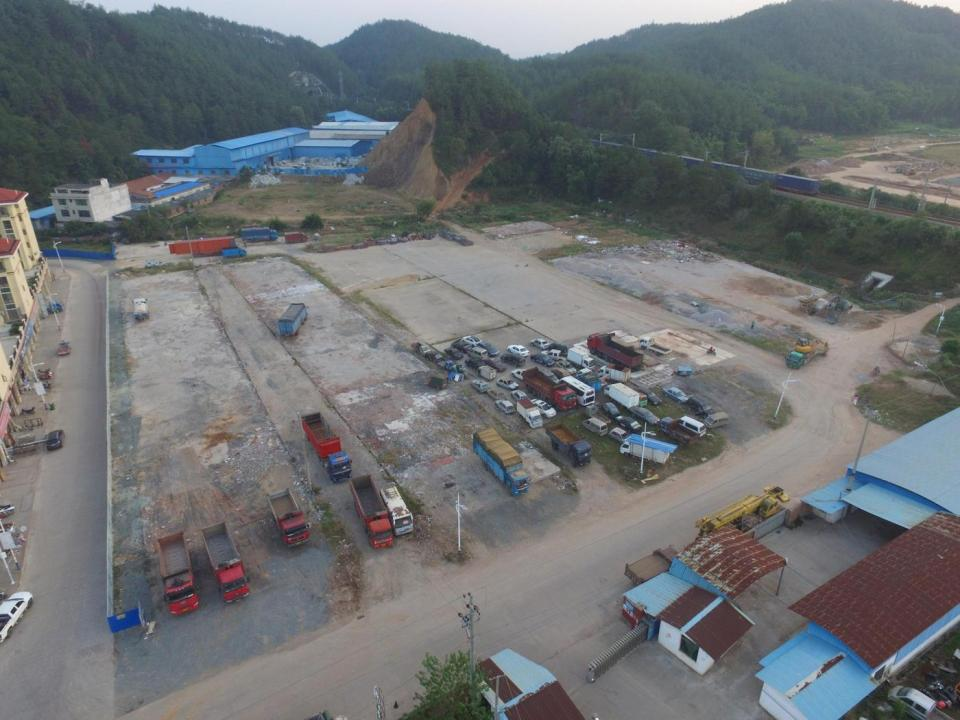bus: (379, 484, 414, 536), (557, 375, 595, 407)
car: (685, 396, 717, 419), (628, 404, 660, 426), (527, 397, 557, 418), (632, 386, 662, 406), (614, 414, 642, 433), (663, 385, 690, 404), (44, 428, 66, 450), (499, 352, 527, 368), (530, 352, 556, 368), (483, 356, 509, 372), (476, 340, 499, 357), (601, 400, 621, 419), (485, 387, 507, 404), (493, 398, 516, 414), (496, 375, 520, 390), (547, 341, 571, 356), (464, 357, 488, 372), (550, 366, 573, 381), (470, 378, 490, 394), (556, 359, 577, 374), (506, 344, 530, 357), (460, 334, 482, 348), (510, 389, 530, 404), (510, 368, 533, 381), (423, 350, 444, 364), (450, 340, 472, 353), (528, 338, 550, 350), (444, 347, 464, 359)
truck: (200, 520, 250, 604), (473, 426, 532, 496), (156, 530, 200, 617), (300, 411, 352, 483), (349, 474, 394, 549), (265, 488, 310, 549), (624, 544, 683, 588), (522, 366, 577, 412), (545, 422, 593, 468), (587, 333, 644, 370), (619, 434, 678, 466), (0, 590, 34, 644), (168, 235, 238, 258), (657, 415, 700, 448), (603, 381, 640, 412), (278, 302, 309, 337), (785, 344, 820, 370), (516, 397, 544, 429), (566, 346, 597, 371), (596, 363, 631, 384), (638, 336, 673, 357), (583, 404, 612, 428), (577, 367, 609, 388), (240, 226, 279, 242), (574, 372, 602, 393), (540, 348, 569, 364), (132, 297, 150, 322), (475, 365, 497, 381), (37, 300, 64, 313), (221, 246, 247, 259), (284, 231, 309, 244), (411, 341, 431, 356), (145, 258, 166, 269), (57, 340, 71, 356)
van: (886, 685, 936, 720), (677, 415, 706, 437), (581, 416, 609, 437), (702, 411, 730, 430), (608, 427, 633, 445), (625, 389, 649, 407), (466, 346, 488, 362)
